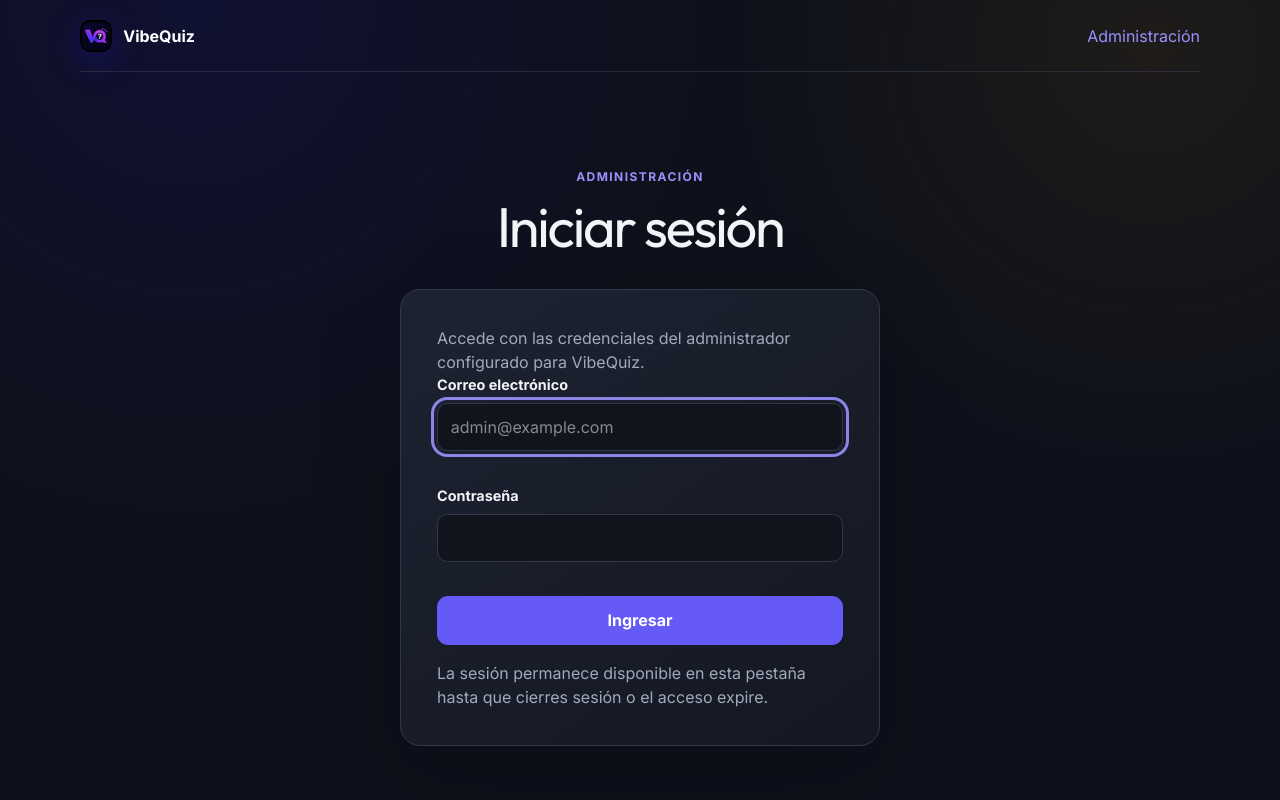
Test: administrative authentication › validates credentials before contacting the API
Click the button "Ingresar": coordinates (640, 620) [437, 596, 843, 645]
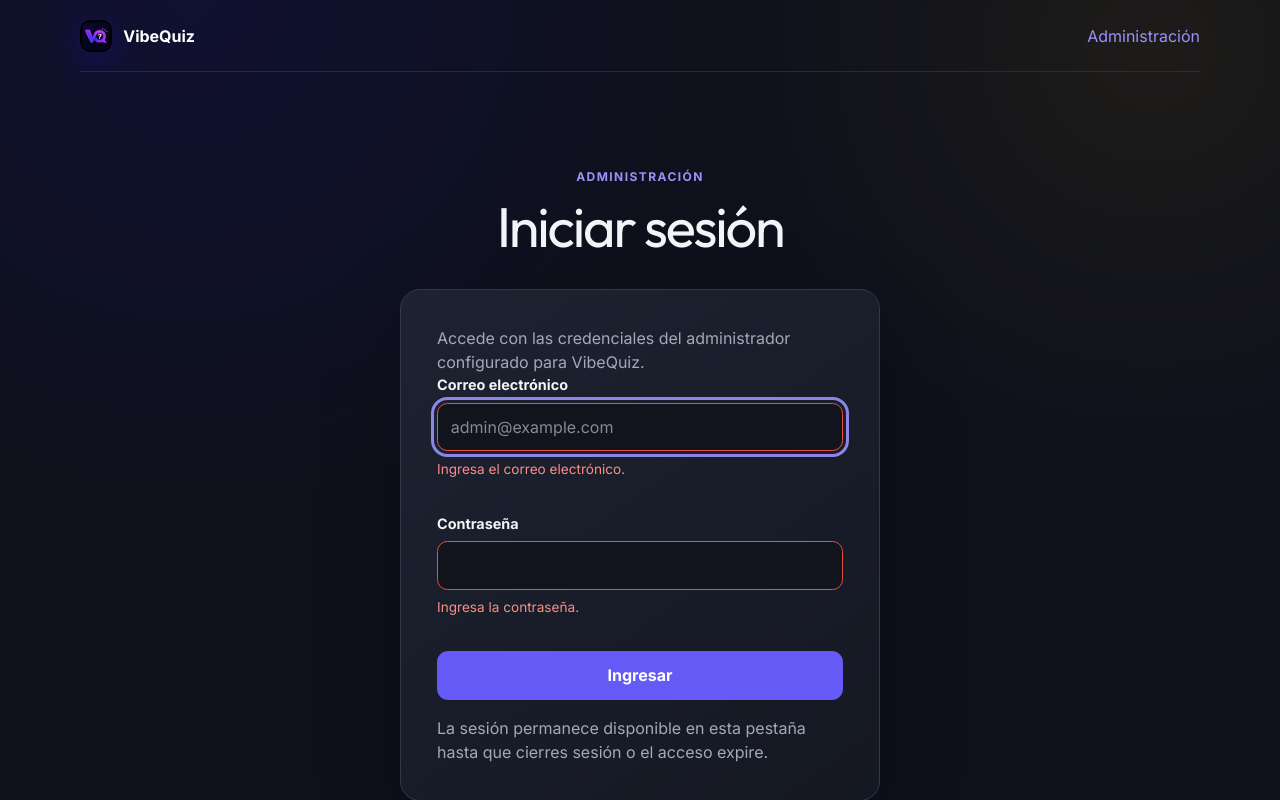
Expected: the text "Ingresa el correo electrónico." is shown, [437, 460, 625, 476]
Expected: the text "Ingresa la contraseña." is shown, [437, 599, 579, 615]
